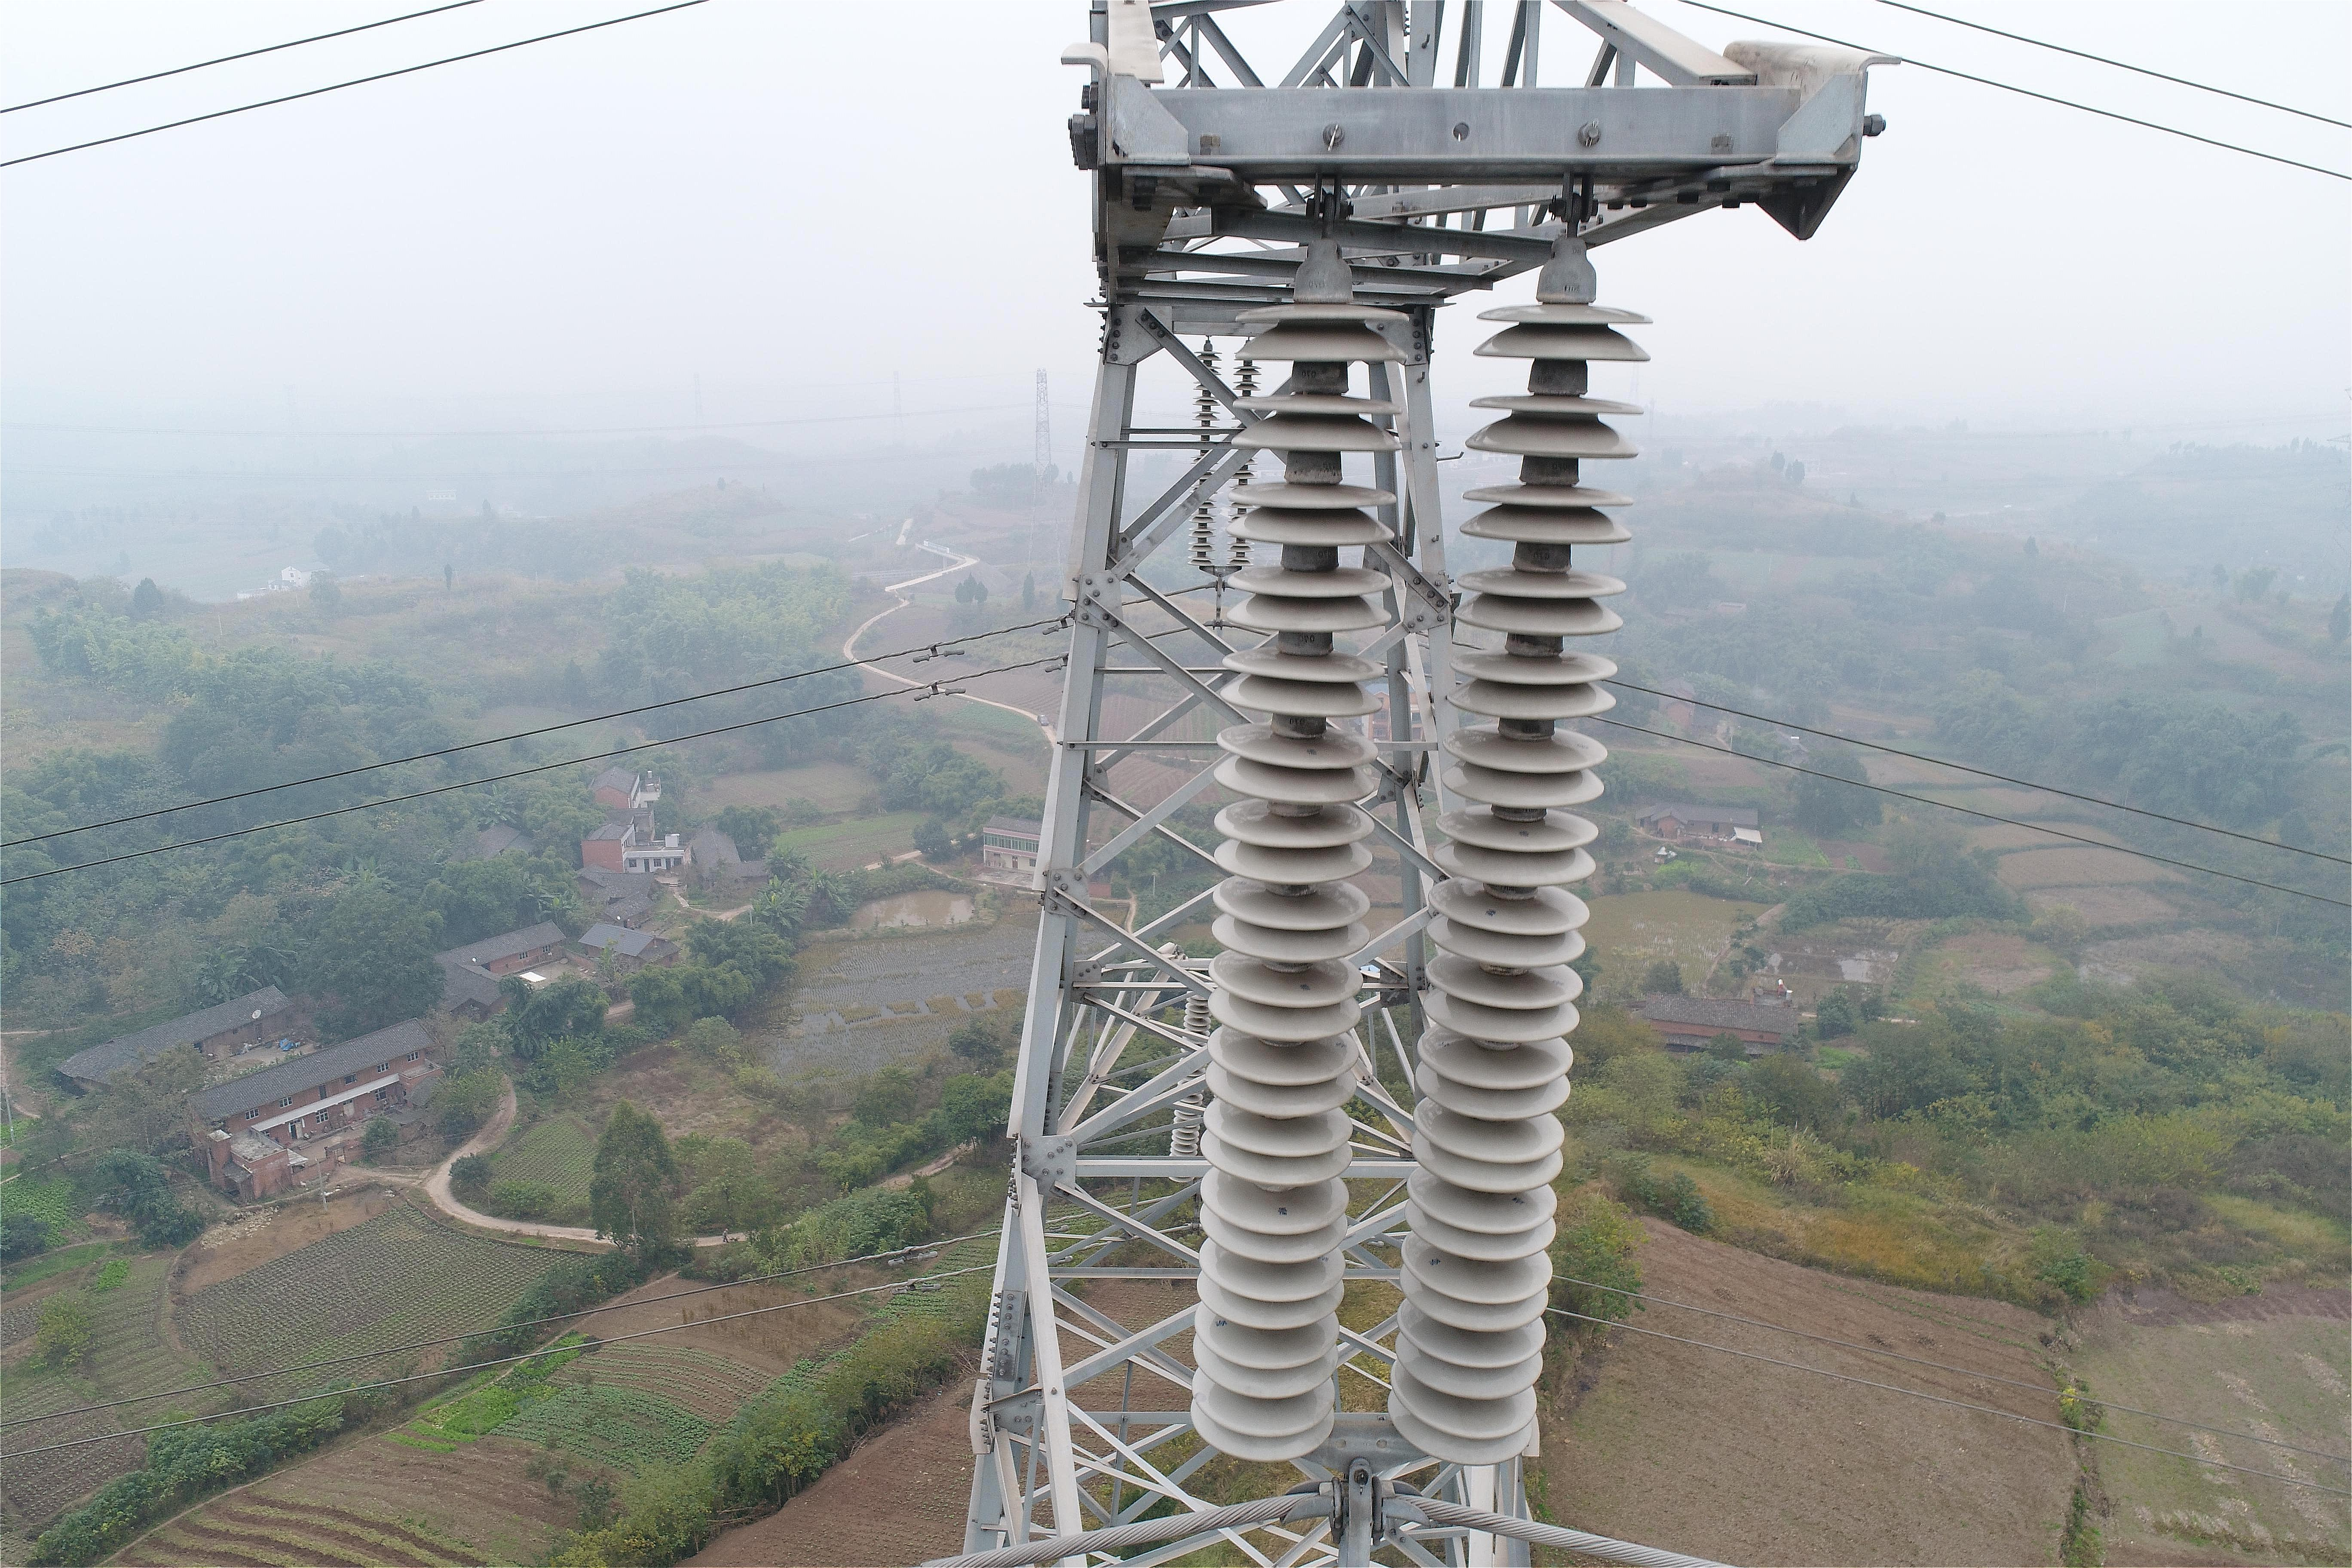insultor4: (1178, 264, 1629, 1465)
